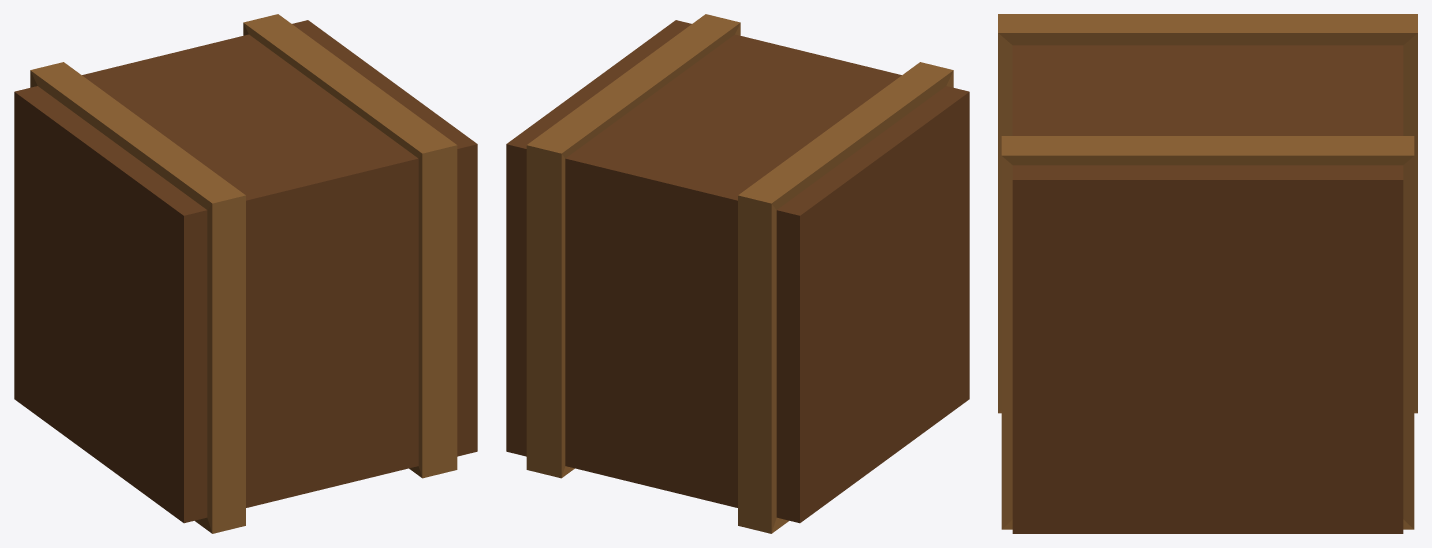
File: Box_wood.fbx
3 views of the same model, side by side, from view 1: azimuth 30°, elevation 25°; view 2: azimuth 150°, elevation 25°; view 3: azimuth 270°, elevation 25° (orthographic). The views are drawn at different scales.
Parts seen in each view (by area): view 1: Cube; view 2: Cube; view 3: Cube.
Part boxes in pixels (<box>): Cube: <box>14,14,477,533</box>; Cube: <box>506,14,969,533</box>; Cube: <box>998,14,1417,533</box>.
Size of the model in its own units: 200 by 215 by 215.
